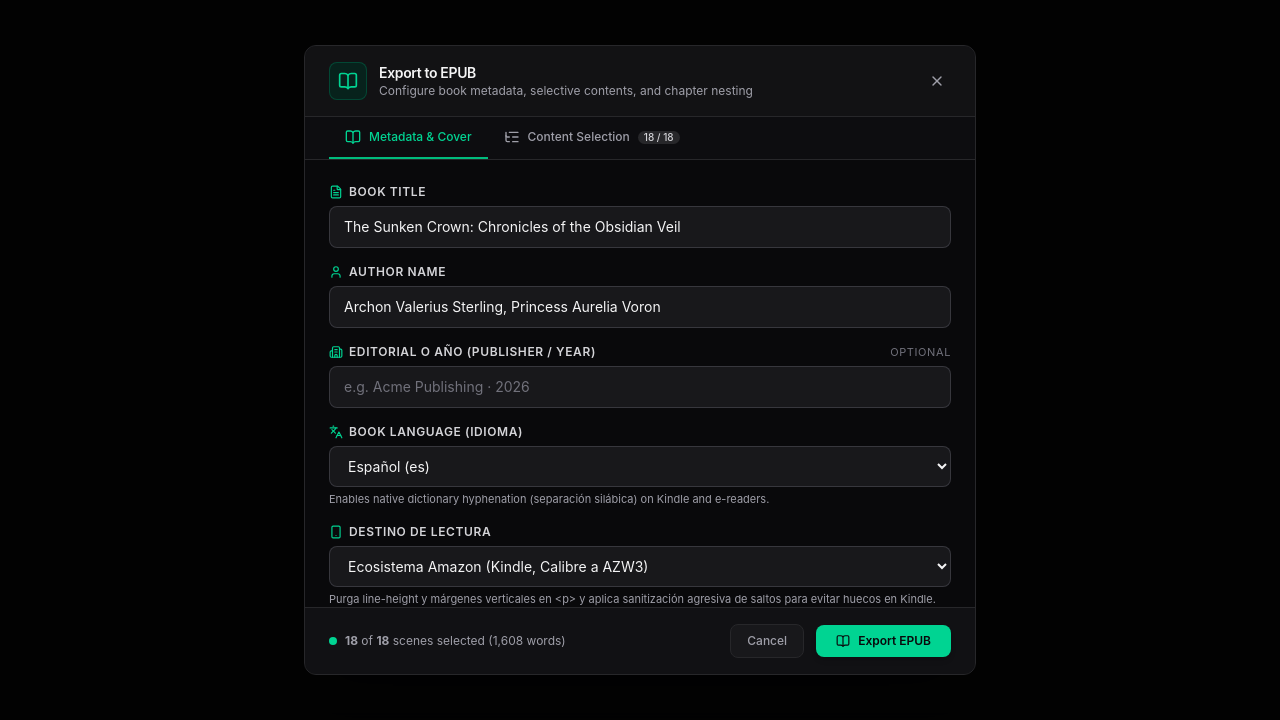
it: ExportSettingsModal Component › handles folder collapse/expand and expand all/collapse all in Content tab
Click the text "Content Selection".
click(579, 137)  # box [528,129,630,145]
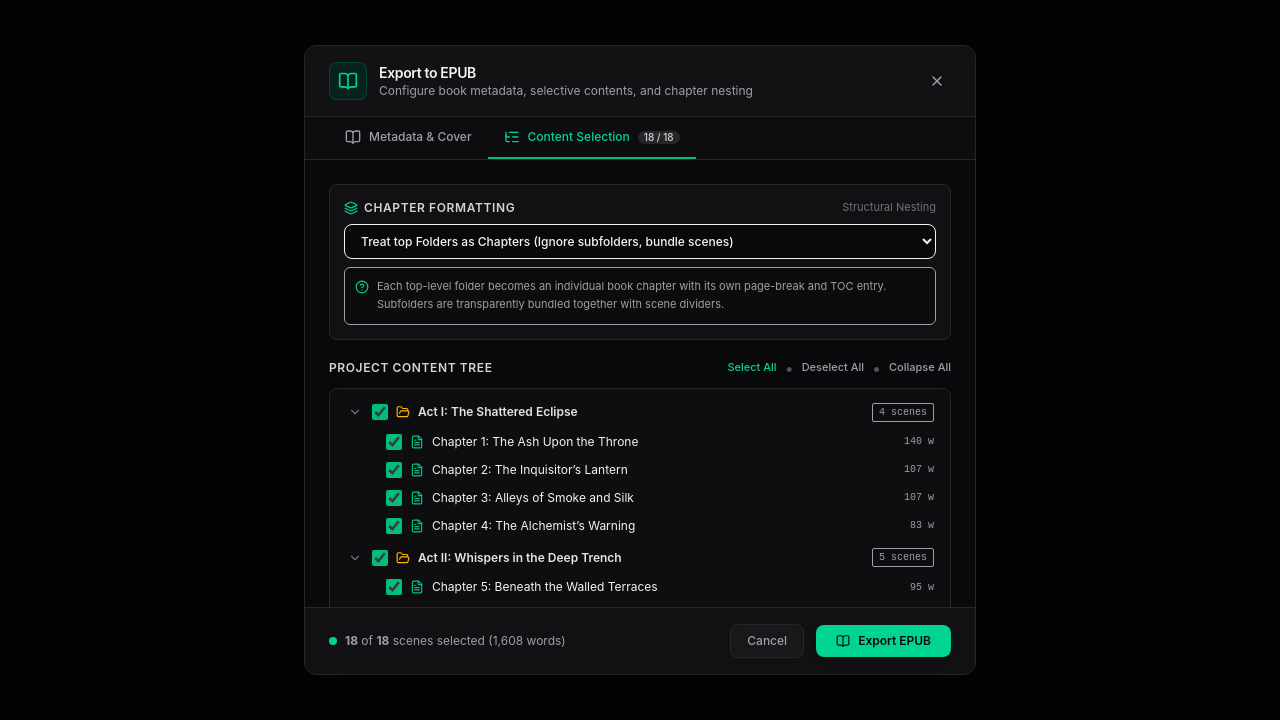
Expected: the text "Chapter 1: The Ash Upon the Throne" is shown, [432,434,638,450]
# Collapse Act I folder
Click the button titled "Collapse folder" next to "Act I: The Shattered Eclipse".
click(355, 412)  # box [346,403,364,421]
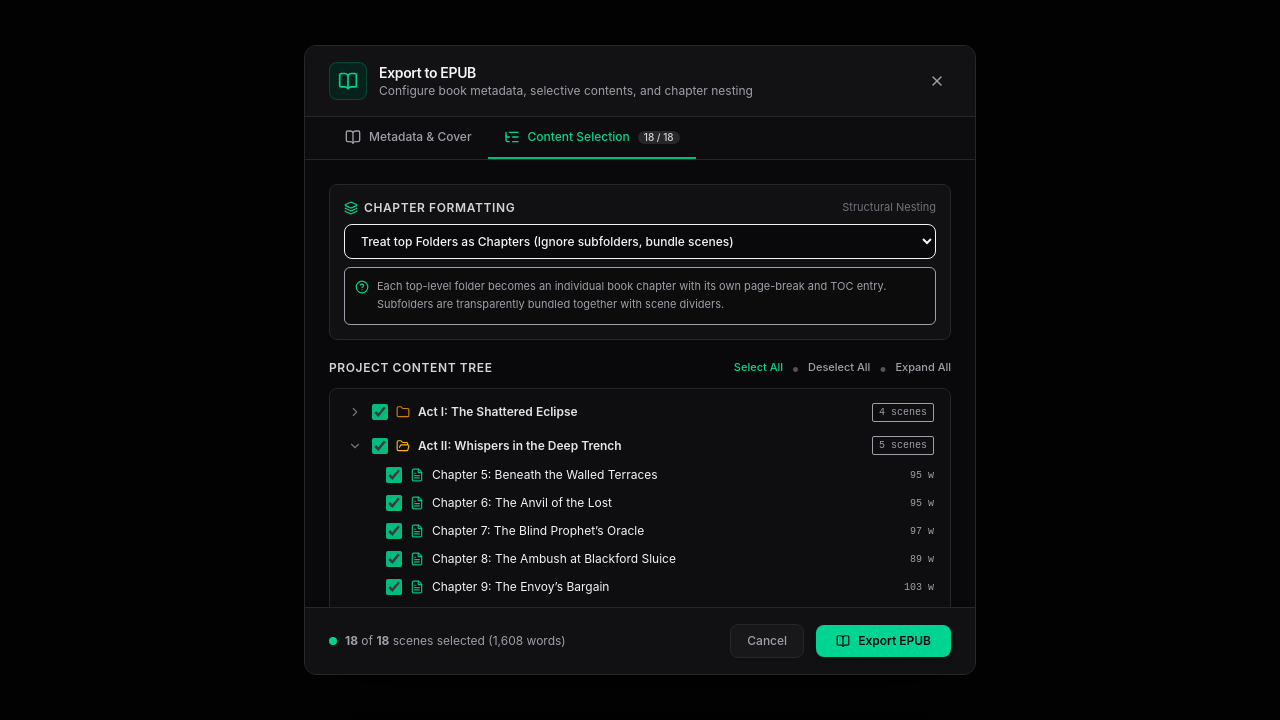
Expected: the text "Chapter 1: The Ash Upon the Throne" is gone
# Expand Act I folder again
Click the button titled "Expand folder".
click(355, 412)  # box [346,403,364,421]
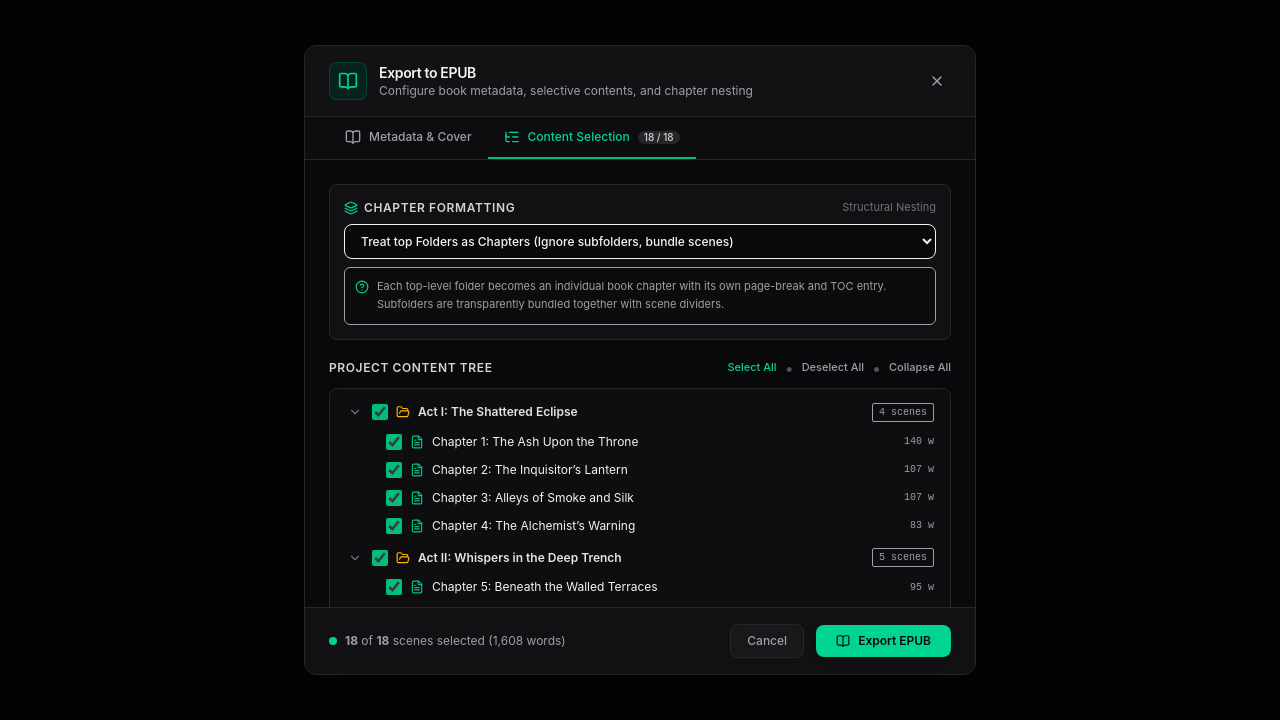
Expected: the text "Chapter 1: The Ash Upon the Throne" is shown, [432,434,638,450]
# Toggle Collapse All / Expand All
Click the button "Collapse All".
click(920, 368)  # box [889,359,951,376]
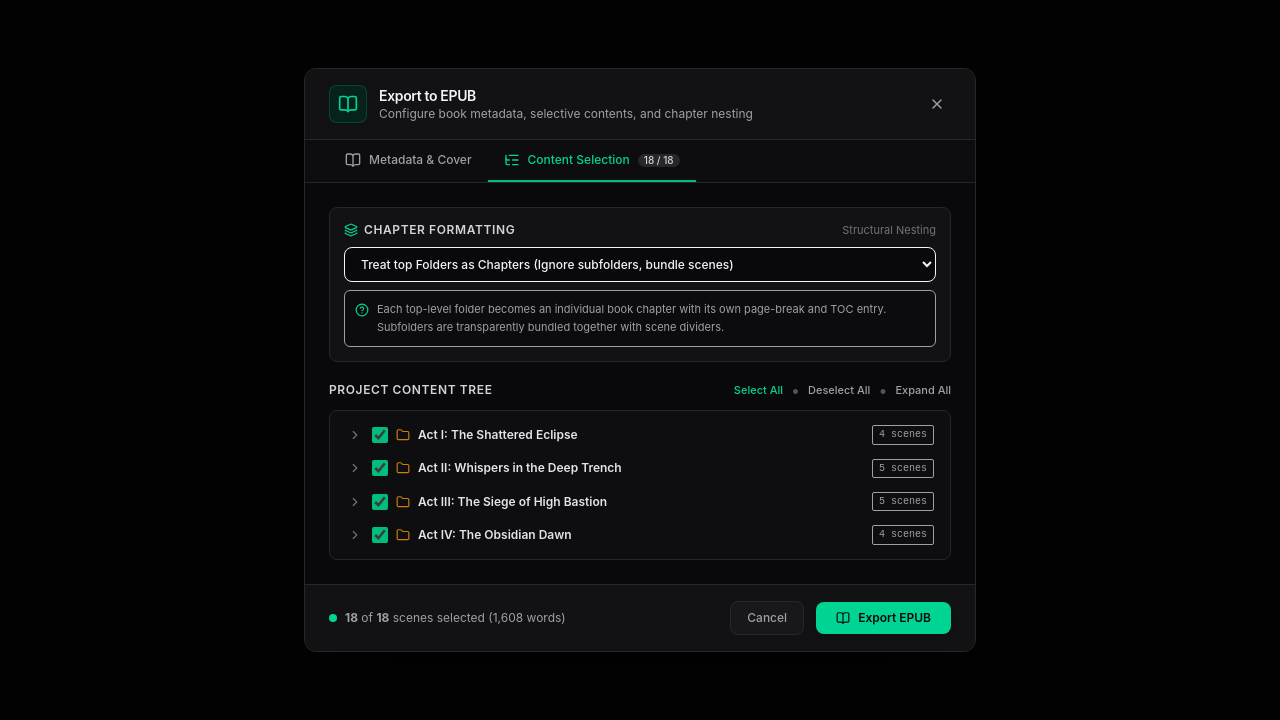
Expected: the button "Expand All" is shown
Click the button "Expand All".
click(923, 390)  # box [895,382,951,399]
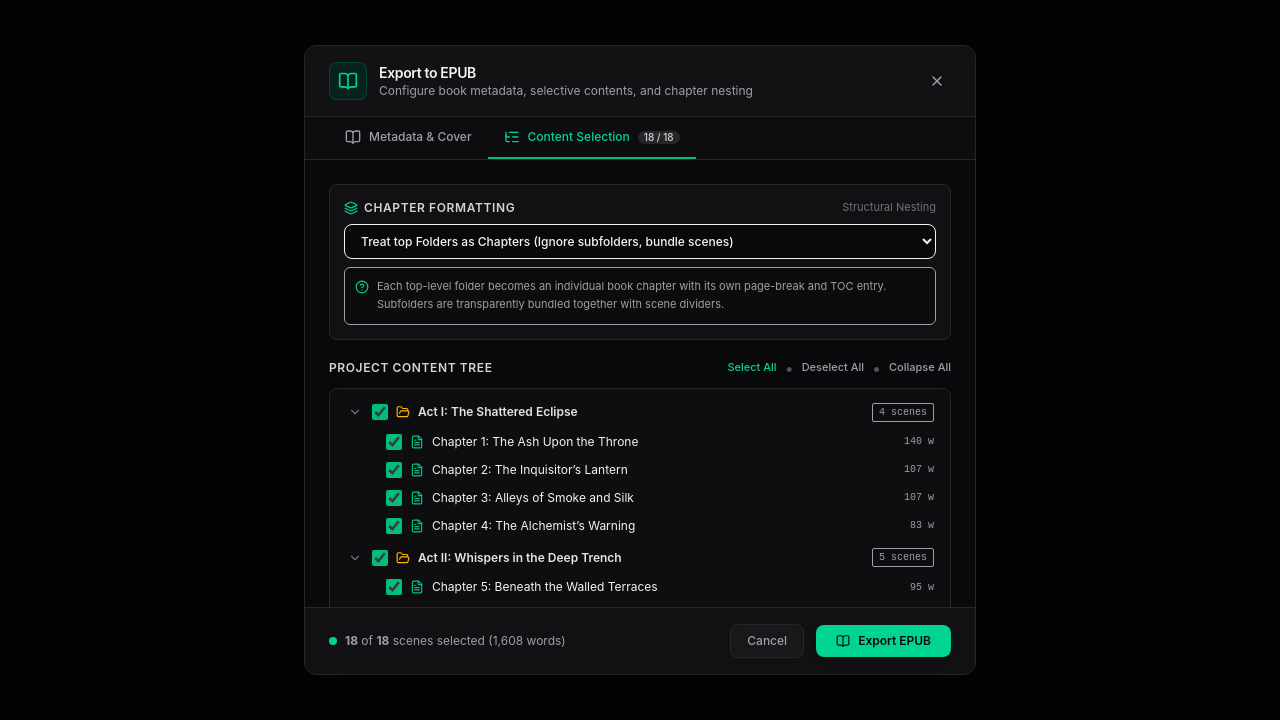
Expected: the button "Collapse All" is shown, [889,359,951,376]
